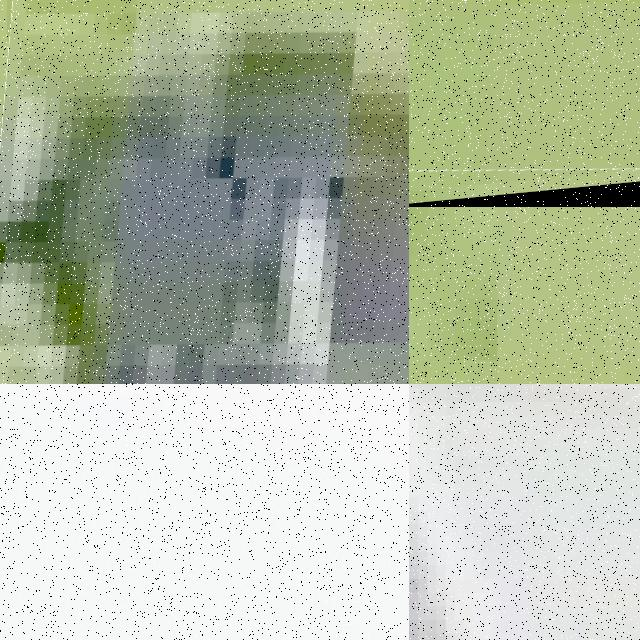0: (0, 0, 409, 384), (409, 0, 640, 207)
drone: (0, 384, 409, 640)
